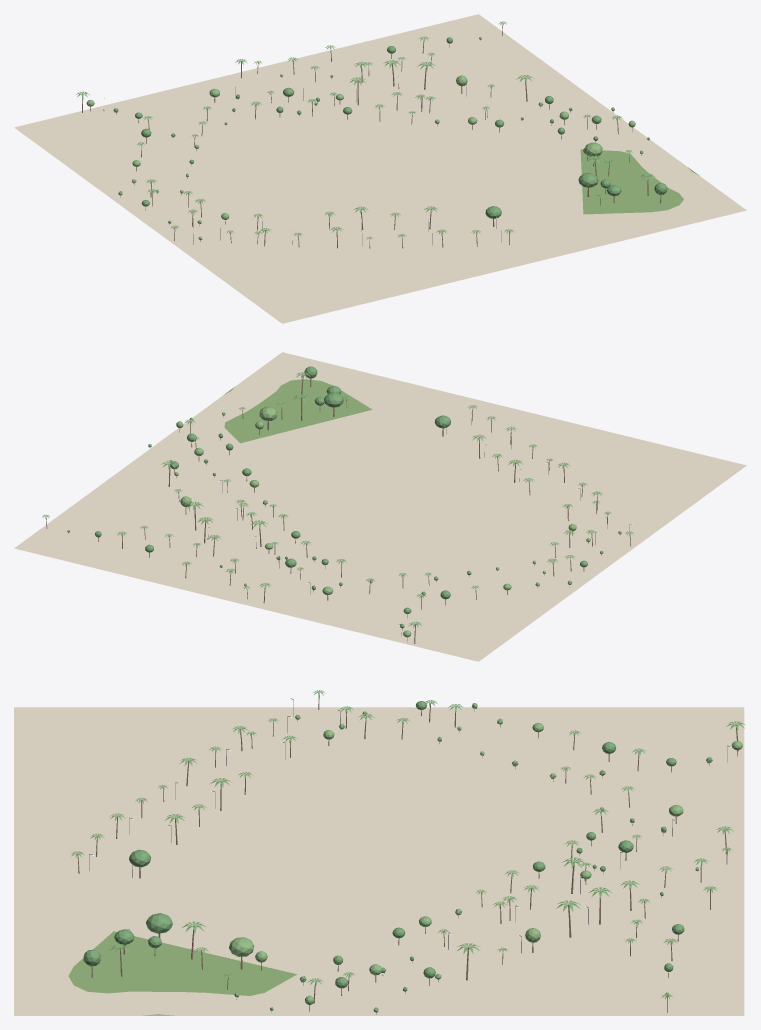
Rendered from nature_-1_6.glb.
3 views of the same model, one above another, from view 1: azimuth 30°, elevation 25°; view 2: azimuth 150°, elevation 25°; view 3: azimuth 270°, elevation 25° (orthographic). The views are drawn at different scales.
Parts seen in each view (by area): view 1: ground, grass, palm_leaf, foliage_a, trunk, foliage_b; view 2: ground, grass, palm_leaf, foliage_a, trunk, foliage_b; view 3: ground, grass, palm_leaf, foliage_a, trunk, foliage_b.
Boxes of the visible parts, x1,y1,x2,y2 form: ground: (14, 14, 746, 323); grass: (580, 149, 699, 214); palm_leaf: (76, 21, 654, 240); foliage_a: (113, 37, 667, 223); trunk: (82, 24, 661, 248); foliage_b: (86, 74, 643, 240); ground: (14, 352, 746, 661); grass: (224, 379, 372, 443); palm_leaf: (42, 372, 633, 627); foliage_a: (67, 366, 603, 628); trunk: (46, 375, 630, 643); foliage_b: (148, 406, 621, 637); ground: (14, 707, 744, 1015); grass: (68, 931, 296, 1015); palm_leaf: (71, 690, 745, 999); foliage_a: (83, 701, 712, 1010); trunk: (77, 695, 738, 1014); foliage_b: (229, 703, 742, 1012).
Size of the model in its own units: 251 by 13.24 by 251.
